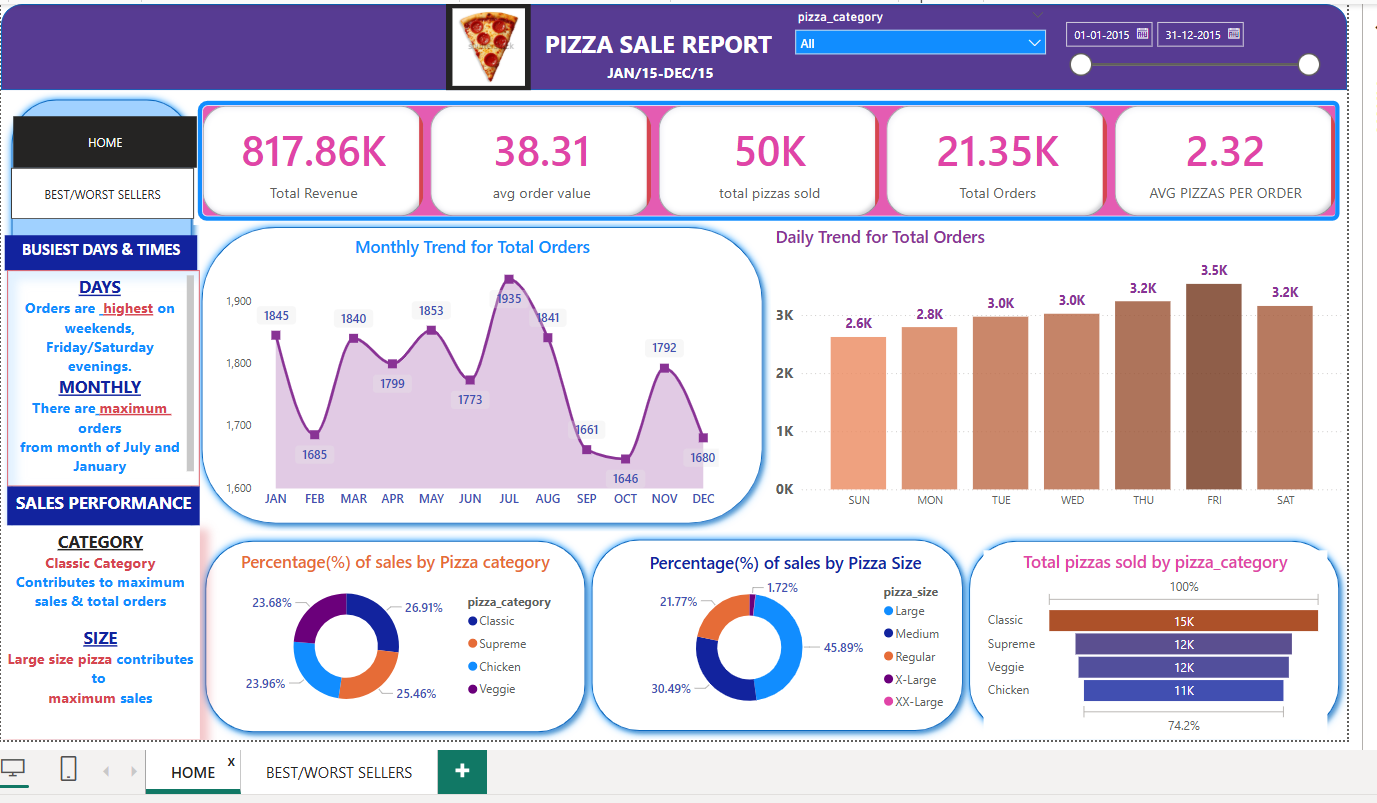

What the dashboard file says about the page in this screenshot:
{"tool":"powerbi","page":{"name":"HOME","canvas":[1500,820],"ordinal":0},"visuals":[{"type":"shape","box":[2.8,97.5,218.6,722.8],"z":0},{"type":"cardVisual","fields":{"Data":["pizza_sales.Total Revenue","pizza_sales.avg order value","pizza_sales.total pizzas sold","pizza_sales.Total Orders","pizza_sales.AVG PIZZAS PER ORDER"]},"box":[214.5,103.1,1285.4,143.4],"z":1000},{"type":"shape","box":[0,0,1499.9,96.1],"z":2000},{"type":"textbox","box":[591,20.5,283.7,55.2],"z":3000},{"type":"textbox","box":[649.3,59.9,171.8,36.2],"z":4000},{"type":"image","box":[496.4,0,94.6,96.1],"z":5000},{"type":"shape","box":[214.3,239.5,643,348.3],"z":6000},{"type":"columnChart","title":"Daily Trend for Total Orders","fields":{"Category":["pizza_sales.ORDER DAY"],"Y":["pizza_sales.Total Orders"]},"box":[857.9,246.5,642,324.5],"z":7000},{"type":"areaChart","title":"Monthly Trend for Total Orders","fields":{"Y":["pizza_sales.Total Orders"],"Category":["pizza_sales.Order Month"]},"box":[245.1,257.6,559.9,313.4],"z":8000},{"type":"shape","box":[1069.6,589.1,430.3,231.2],"z":9000},{"type":"shape","box":[649,587.7,431.7,231.2],"z":10000},{"type":"shape","box":[218.6,589.1,441.5,231.2],"z":11000},{"type":"textbox","box":[0,580.7,221.4,238.1],"z":11500},{"type":"donutChart","title":"Percentage(%) of sales by Pizza category","fields":{"Category":["pizza_sales.pizza_category"],"Y":["pizza_sales.Total Revenue"]},"box":[245.1,608.6,388.6,189.4],"z":12000},{"type":"donutChart","title":"Percentage(%) of sales by Pizza Size","fields":{"Y":["pizza_sales.Total Revenue"],"Category":["pizza_sales.pizza_size"]},"box":[679.6,610,388.6,189.4],"z":13000},{"type":"funnel","title":"Total pizzas sold by pizza_category","fields":{"Y":["pizza_sales.total pizzas sold"],"Category":["pizza_sales.pizza_category"]},"box":[1094.6,608.6,383,210.3],"z":14000},{"type":"textbox","box":[4.2,257.6,214.5,39],"z":15000},{"type":"textbox","box":[7,296.6,214.5,240.9],"z":16000},{"type":"textbox","box":[7,537.6,214.5,43.2],"z":17000},{"type":"slicer","fields":{"Values":["pizza_sales.pizza_category"]},"box":[874.6,0,299.4,96.1],"z":17001},{"type":"slicer","fields":{"Values":["pizza_sales.order_date"]},"box":[1174,9.7,303.6,86.3],"z":17002},{"type":"pageNavigator","box":[11.1,182.4,204.7,57.1],"z":17003},{"type":"pageNavigator","box":[13.9,125.3,204.7,57.1],"z":17004}]}

Visuals, with their boxes on the page's 1500x820 design canvas (x1, y1, x2, y2). These are canvas units, not pixel positions in the 1377x803 screenshot, which may show the page scaled, cropped or inside an application window:
shape: <bbox>3, 98, 221, 820</bbox>
cardVisual - pizza_sales.Total Revenue x pizza_sales.avg order value: <bbox>214, 103, 1500, 246</bbox>
shape: <bbox>0, 0, 1500, 96</bbox>
textbox: <bbox>591, 20, 875, 76</bbox>
textbox: <bbox>649, 60, 821, 96</bbox>
image: <bbox>496, 0, 591, 96</bbox>
shape: <bbox>214, 240, 857, 588</bbox>
"Daily Trend for Total Orders" columnChart: <bbox>858, 246, 1500, 571</bbox>
"Monthly Trend for Total Orders" areaChart: <bbox>245, 258, 805, 571</bbox>
shape: <bbox>1070, 589, 1500, 820</bbox>
shape: <bbox>649, 588, 1081, 819</bbox>
shape: <bbox>219, 589, 660, 820</bbox>
textbox: <bbox>0, 581, 221, 819</bbox>
"Percentage(%) of sales by Pizza category" donutChart: <bbox>245, 609, 634, 798</bbox>
"Percentage(%) of sales by Pizza Size" donutChart: <bbox>680, 610, 1068, 799</bbox>
"Total pizzas sold by pizza_category" funnel: <bbox>1095, 609, 1478, 819</bbox>
textbox: <bbox>4, 258, 219, 297</bbox>
textbox: <bbox>7, 297, 222, 538</bbox>
textbox: <bbox>7, 538, 222, 581</bbox>
slicer - pizza_sales.pizza_category: <bbox>875, 0, 1174, 96</bbox>
slicer - pizza_sales.order_date: <bbox>1174, 10, 1478, 96</bbox>
pageNavigator: <bbox>11, 182, 216, 240</bbox>
pageNavigator: <bbox>14, 125, 219, 182</bbox>
